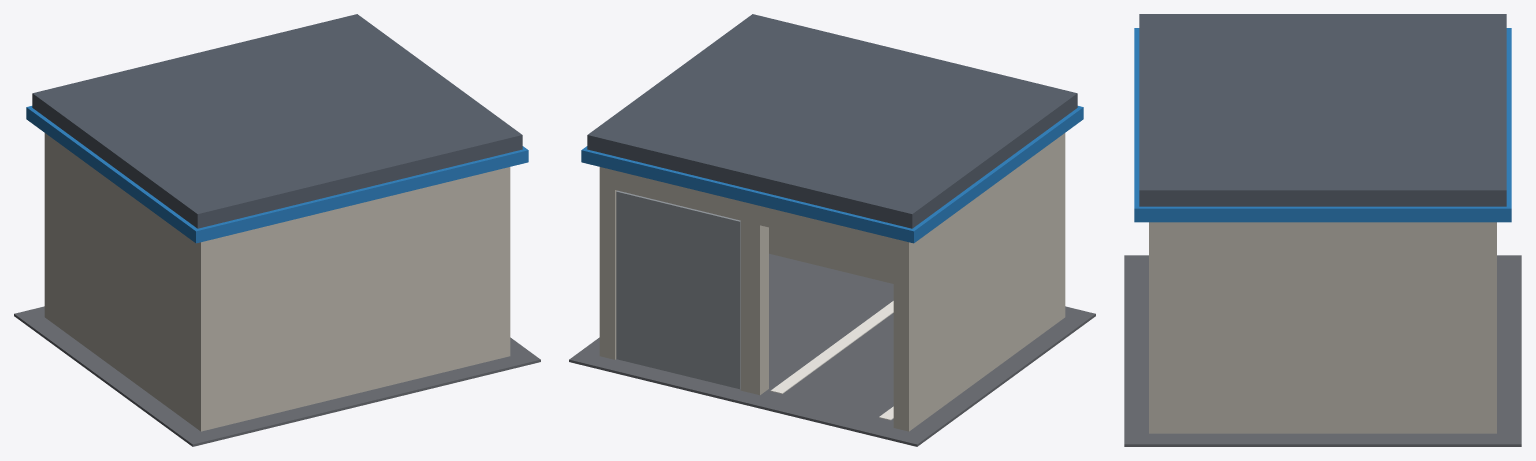
The model's file is annex-busBay.glb.
3 views of the same model, side by side, from view 1: azimuth 30°, elevation 25°; view 2: azimuth 150°, elevation 25°; view 3: azimuth 270°, elevation 25° (orthographic). The views are drawn at different scales.
Visible parts, largest first — view 1: roof, back_wall, side_wall (×2), ground, accent_stripe; view 2: roof, side_wall (×2), ground, garage_door, accent_stripe, lintel, back_wall, post, bay_line; view 3: side_wall, roof, ground, accent_stripe, back_wall.
Part boxes in pixels (x1,y1,x2,y2): roof: (32,14,522,228); back_wall: (192,167,510,431); side_wall (×2): (44,133,510,430); ground: (14,306,540,446); accent_stripe: (26,106,528,243); roof: (587,14,1077,228); side_wall (×2): (599,139,1065,431); ground: (569,253,1095,446); garage_door: (616,190,740,389); accent_stripe: (581,106,1083,243); lintel: (599,167,910,259); back_wall: (769,133,1065,323); post: (740,220,768,395); bay_line: (770,301,893,393); side_wall: (1149,222,1496,433); roof: (1139,14,1506,206); ground: (1124,255,1521,446); accent_stripe: (1134,28,1511,222); back_wall: (1149,222,1168,433).
Size of the model in its own units: 9 by 5.56 by 8.
